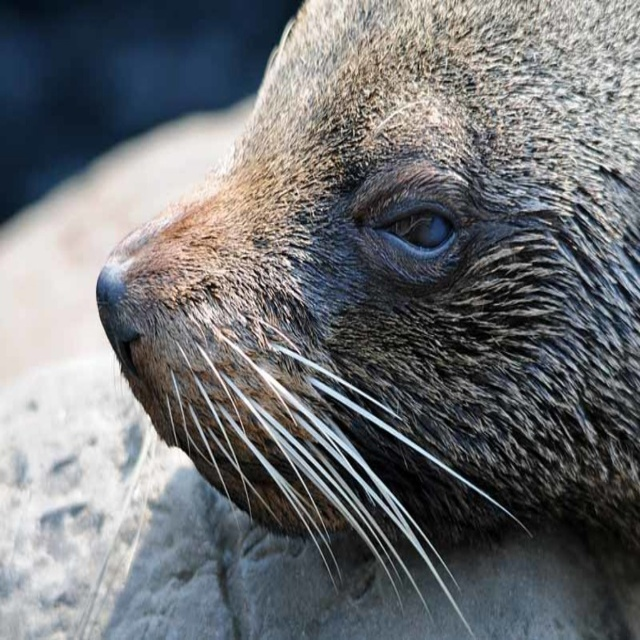Harbor seal: (84, 31, 633, 640)
